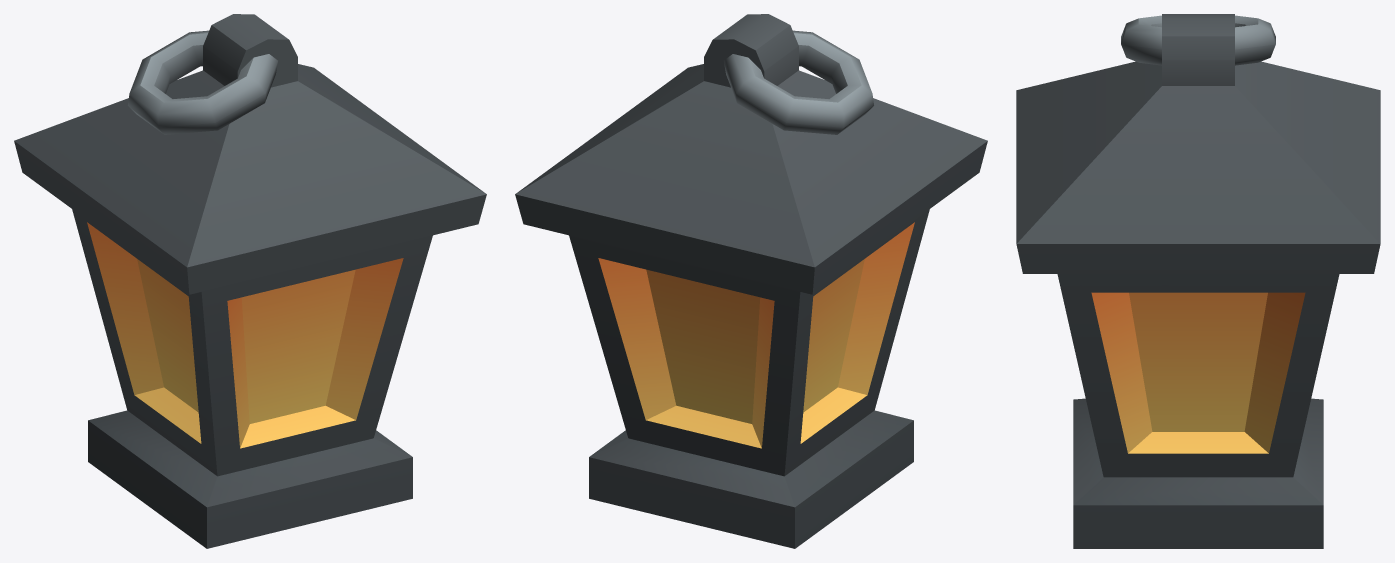
The model's file is lantern_standing.obj.
3 views of the same model, side by side, from view 1: azimuth 30°, elevation 25°; view 2: azimuth 150°, elevation 25°; view 3: azimuth 270°, elevation 25° (orthographic). The views are drawn at different scales.
Visible parts, largest first — view 1: lantern_standing_Cube.134; view 2: lantern_standing_Cube.134; view 3: lantern_standing_Cube.134.
Boxes of the visible parts, <box> form: lantern_standing_Cube.134: <box>14,14,486,548</box>; lantern_standing_Cube.134: <box>515,14,987,548</box>; lantern_standing_Cube.134: <box>1016,14,1380,548</box>.
Size of the model in its own units: 0.64 by 0.9252 by 0.64.
Materials: 1 (1 with a texture image).
